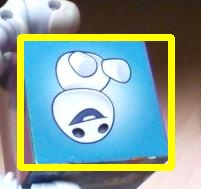Blue1: (20, 37, 171, 167)
